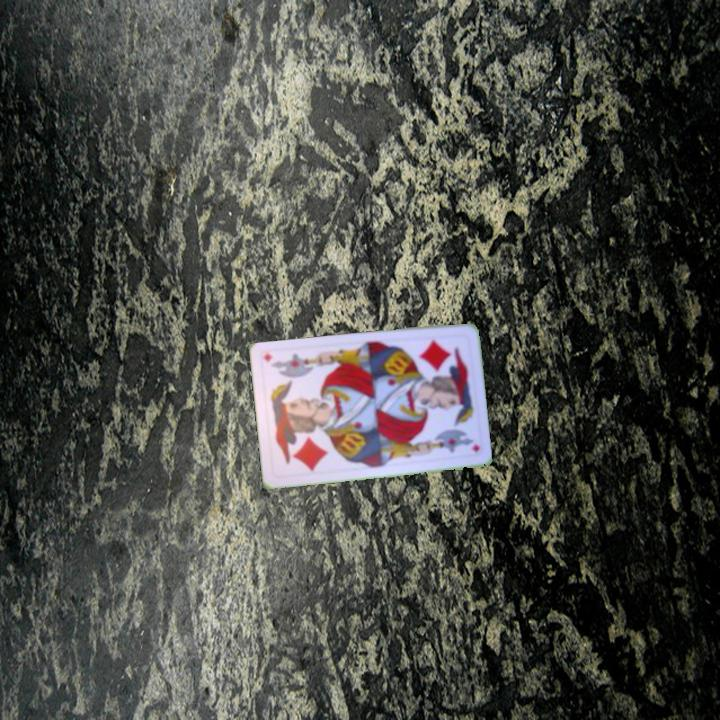d_j.png: (265, 407, 329, 479), (412, 331, 475, 403)
